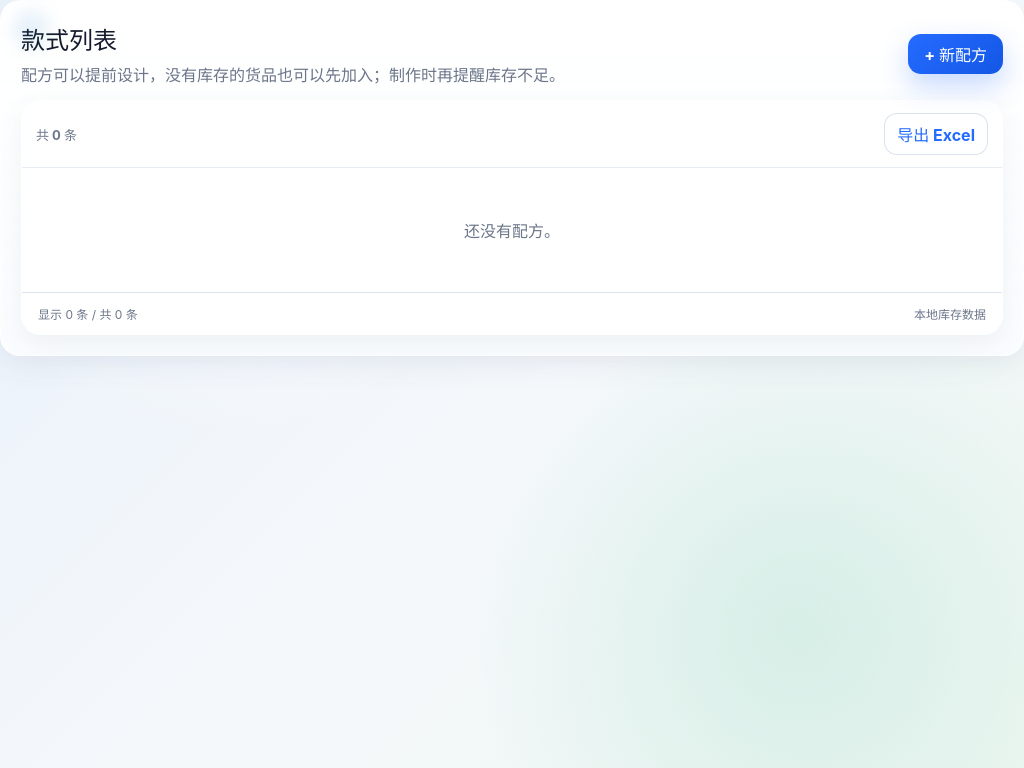
RecipesPage › shows active unstocked materials in recipe options but hides inactive materials
Click the button "+ 新配方": (956, 54) [908,34,1003,74]
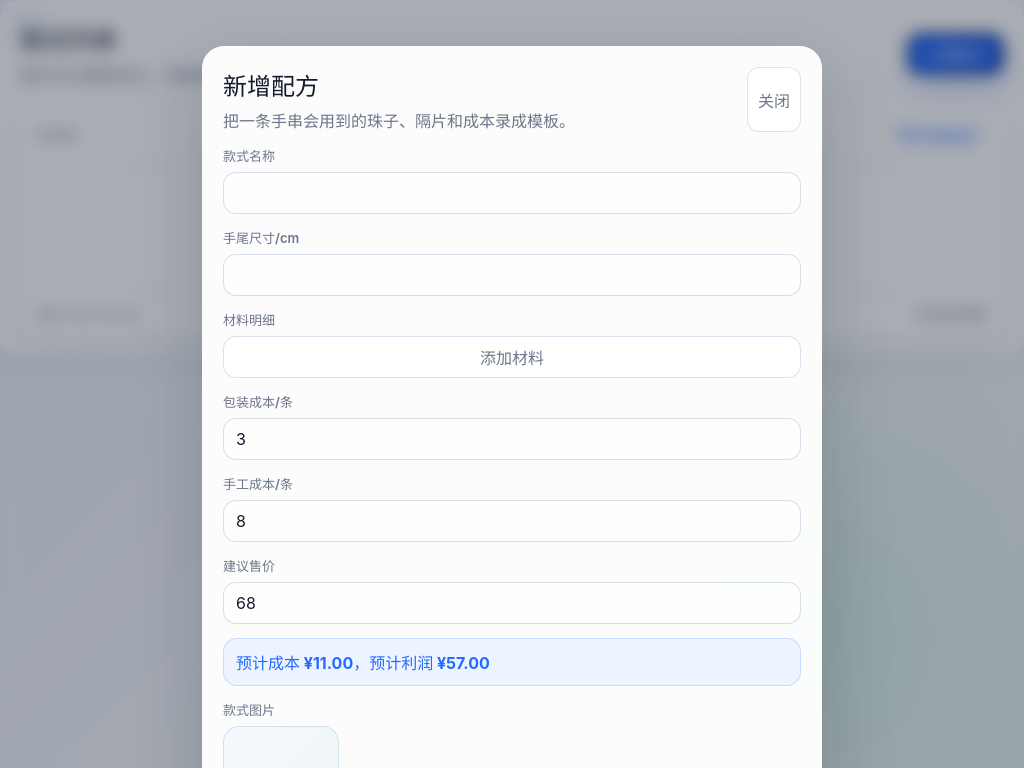
Click the button "添加材料": (512, 357) [223,336,801,378]
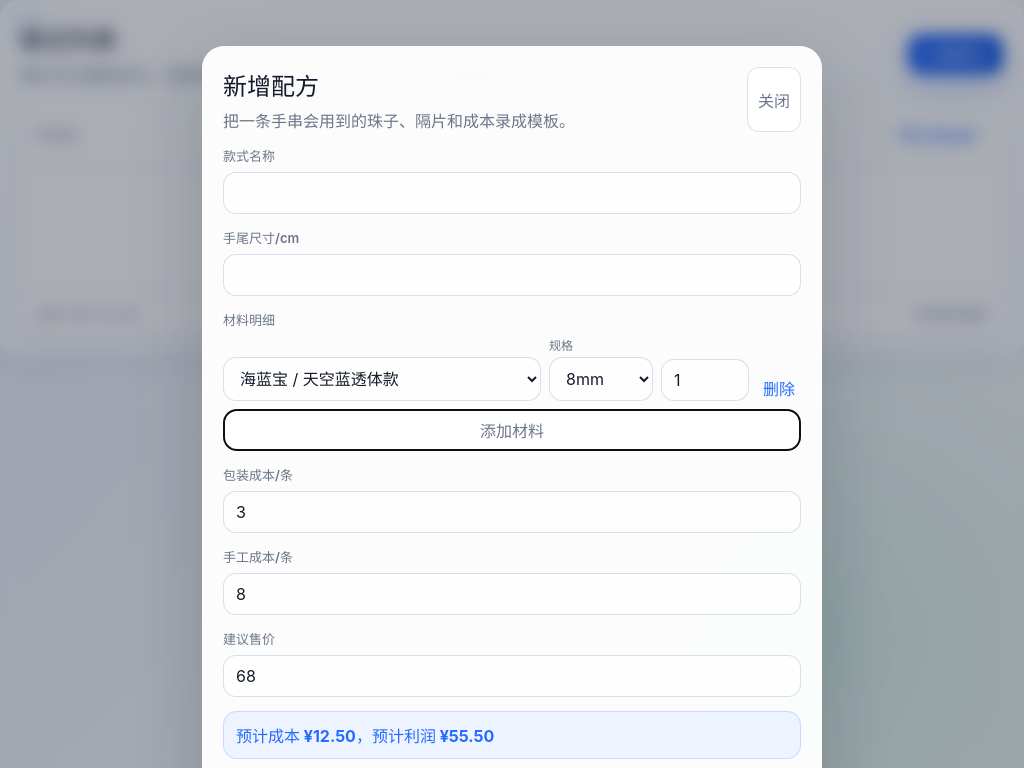
Check: the dropdown named "材料" shows "海蓝宝 / 天空蓝透体款", box [223,357,541,401]
